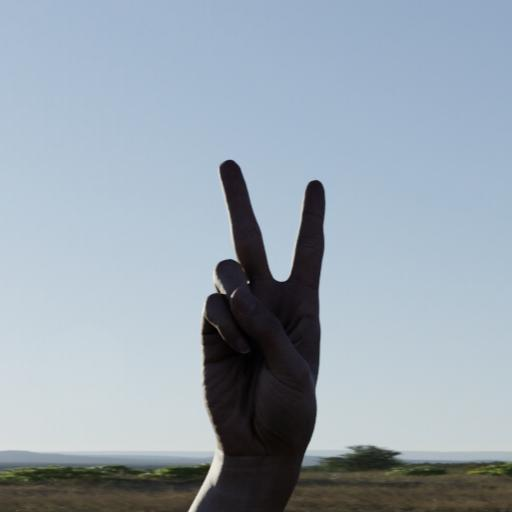V: (170, 130, 382, 485)
